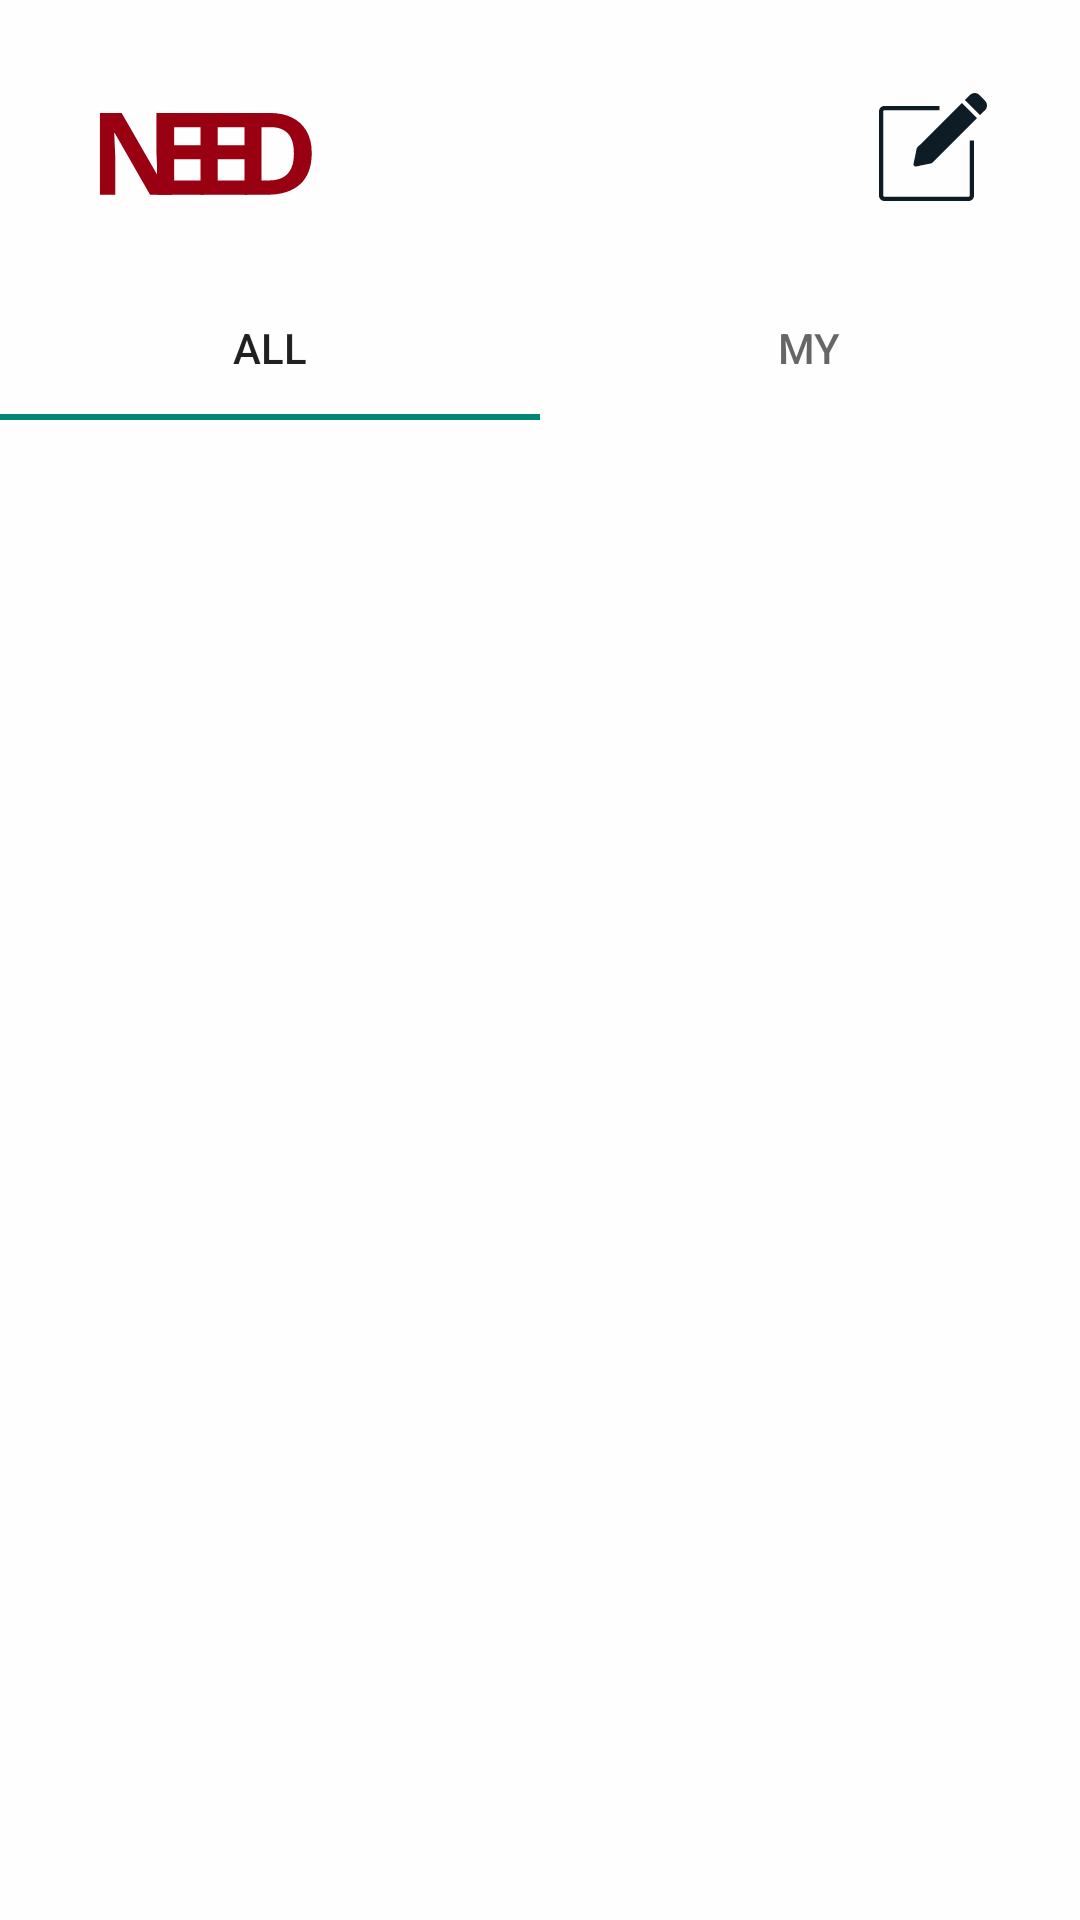

Locate icon controls on the screen. Image size 1080 x 1920, boxes as (x1, y1, x2, y2).
write: (879, 93, 987, 201)
